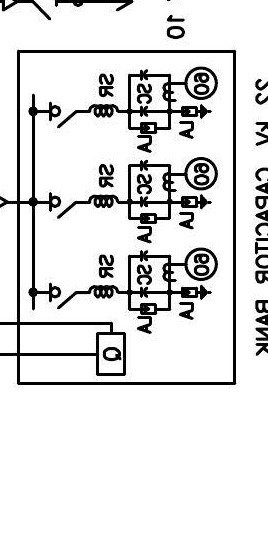22_cap_bank: (16, 49, 237, 386)
Q: (95, 331, 127, 377)
